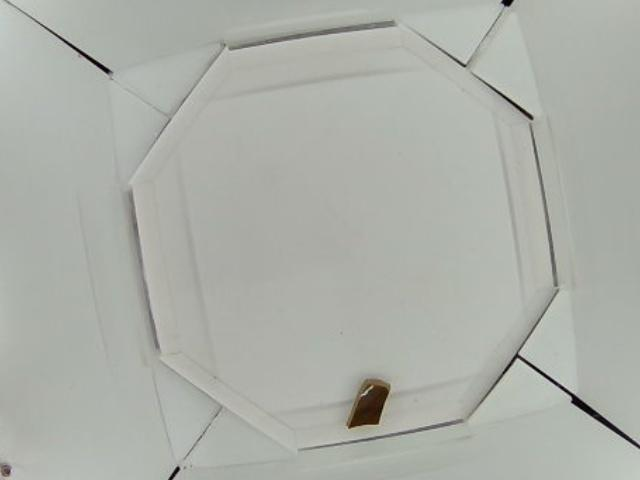China: (349, 373, 393, 432)
